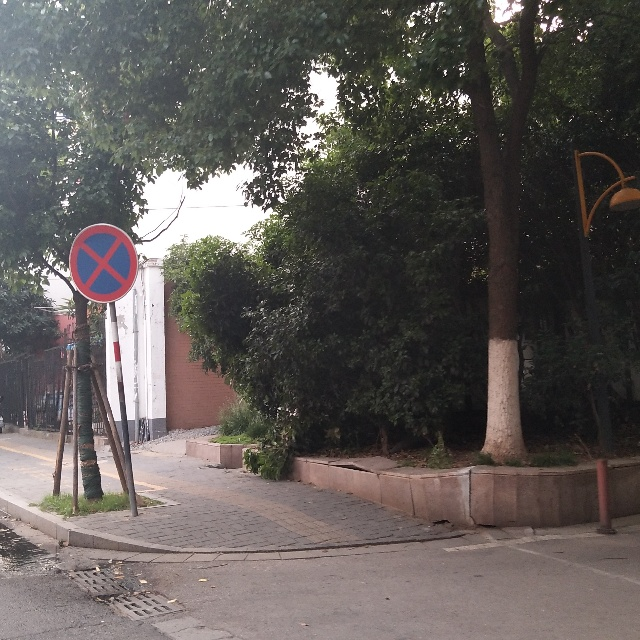stop: (71, 227, 135, 297)
